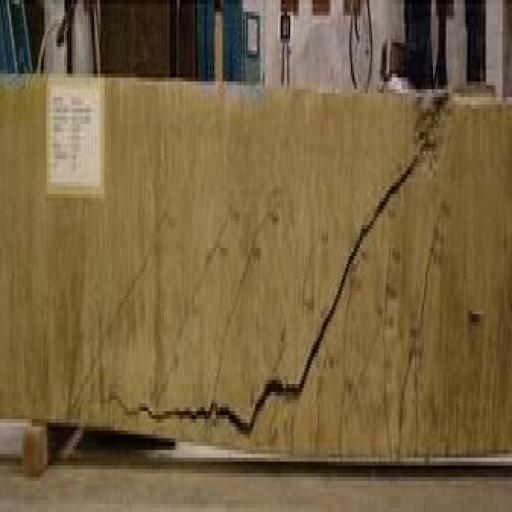spalling: (106, 142, 422, 452)
